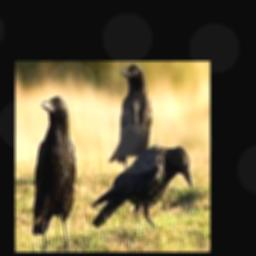Crow: (91, 145, 193, 229), (33, 96, 76, 251), (109, 64, 152, 172)
